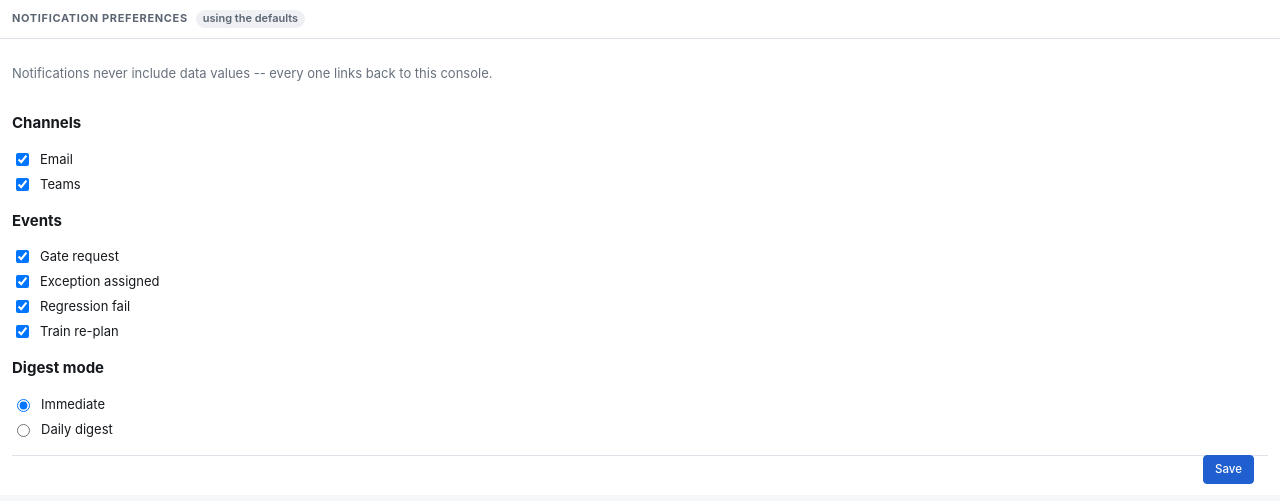
Test: saving preferences › unchecking a channel and saving persists the real change
Expected: the text "using the defaults" is shown, left=196, top=10, right=305, bottom=28
Click the checkbox labelled "Teams" at (22, 184), box left=16, top=178, right=29, bottom=190
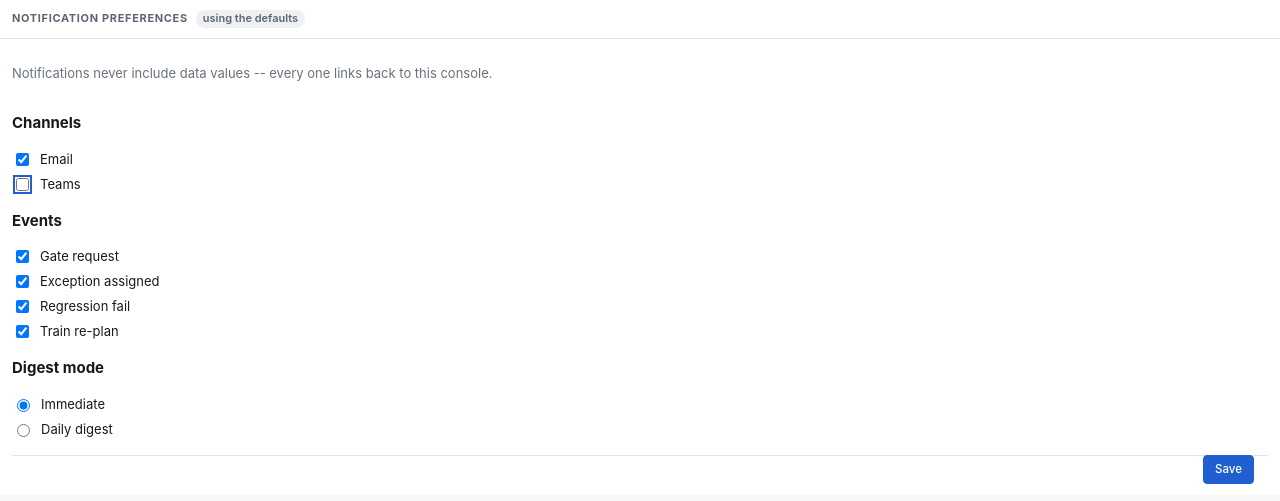
Click the radio button labelled "Daily digest" at (24, 431), box left=17, top=424, right=30, bottom=437
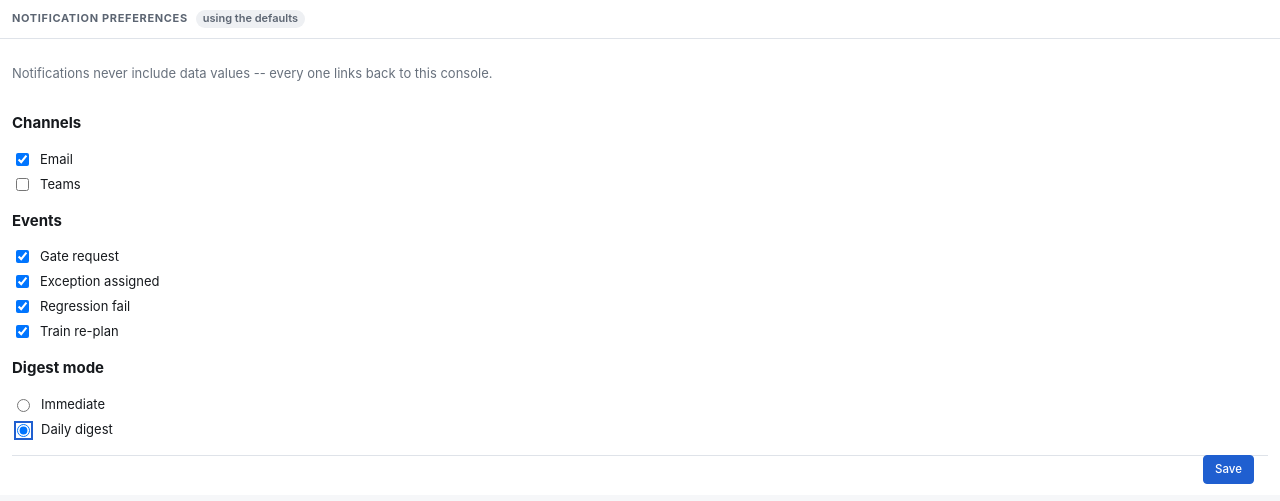
Click the button "Save" at (1229, 469), box left=1203, top=455, right=1254, bottom=484
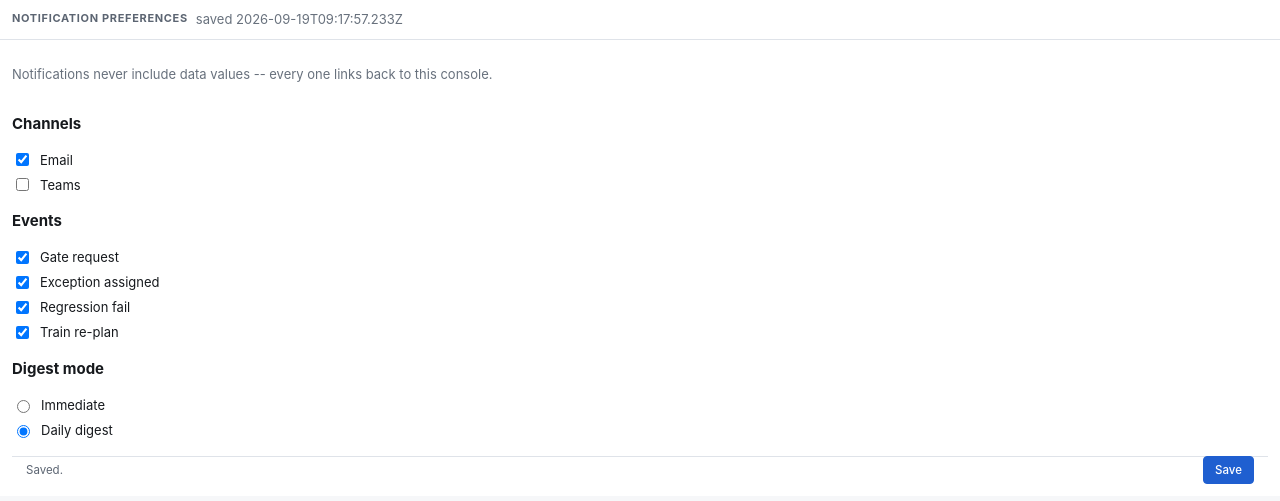
Result: the text "Saved." is shown at left=26, top=462, right=63, bottom=478
